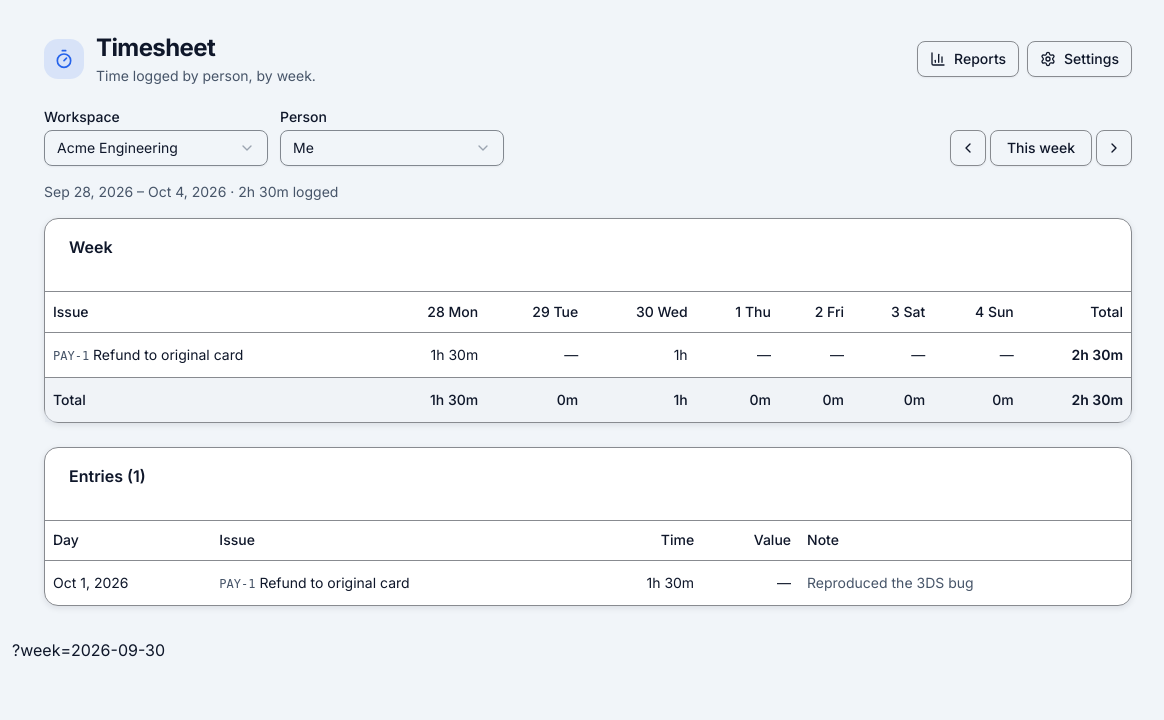
Test: <Timesheet> › lets someone who may see others pick everyone, and splits rows by person
The image size is (1164, 720).
Check: the table named "Timesheet" is shown, box [45,292,1131,422]
Click the dropdown named "Person": x=392, y=148 [280,130,504,166]
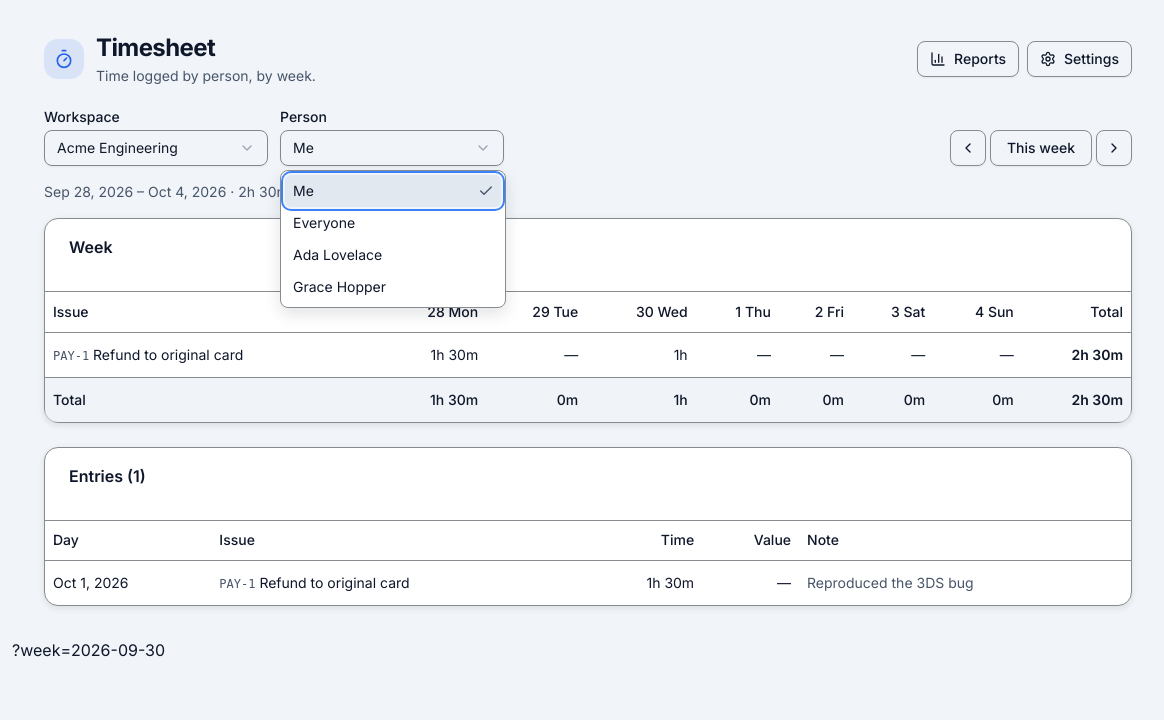
Click the option "Everyone": x=324, y=222 [293,214,355,231]
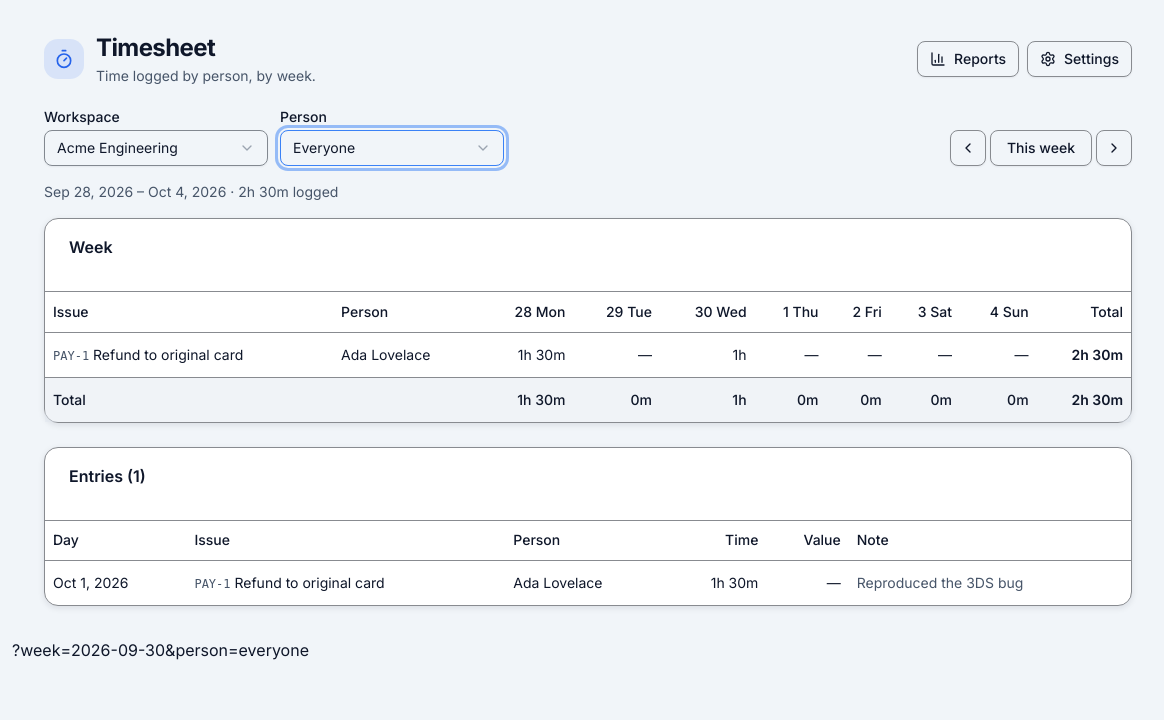
Check: the text with test id "search" shows "person=everyone", box [12,640,309,660]
Check: the number of column headings "Person" is 2, box [333,292,480,332]; [505,520,668,560]
